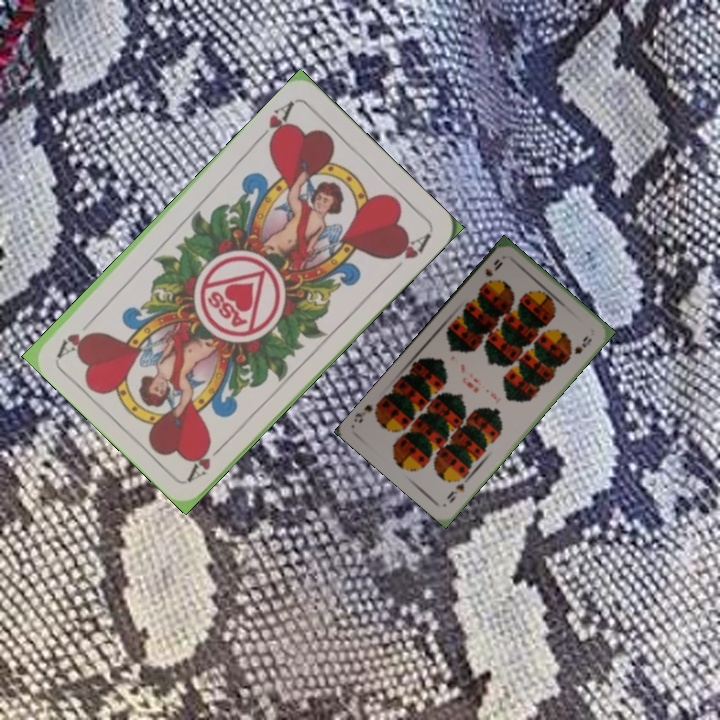HA: (252, 96, 298, 149), (184, 436, 230, 484)
S9: (478, 255, 505, 289), (443, 479, 467, 506)
